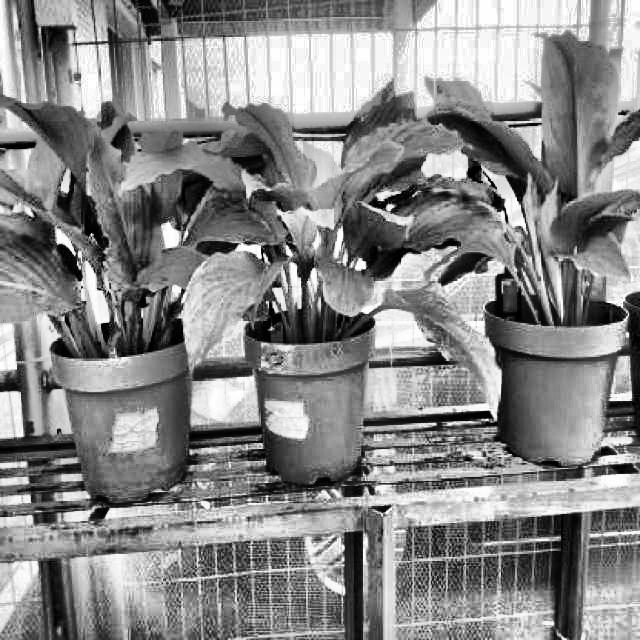plants: (177, 100, 520, 422), (0, 86, 265, 368), (423, 31, 639, 334)
